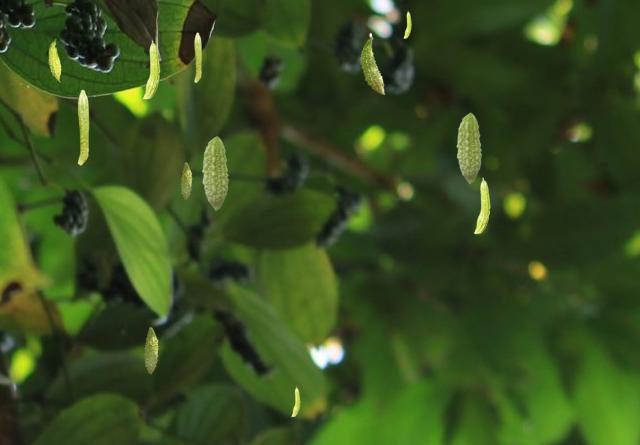ampalaya: (201, 135, 228, 210), (456, 112, 482, 184), (359, 33, 385, 95), (142, 40, 160, 99), (473, 177, 490, 234), (77, 89, 89, 165), (143, 326, 159, 374), (48, 38, 61, 82), (180, 162, 192, 200), (194, 32, 202, 83), (291, 386, 300, 417), (403, 10, 411, 38)
